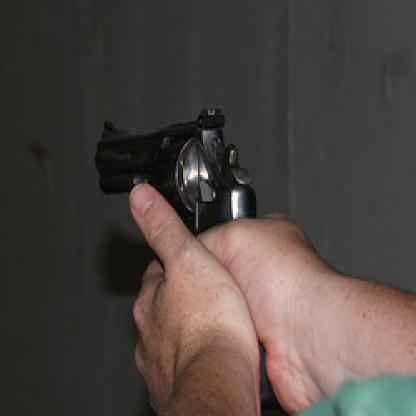gun: (81, 97, 274, 299)
